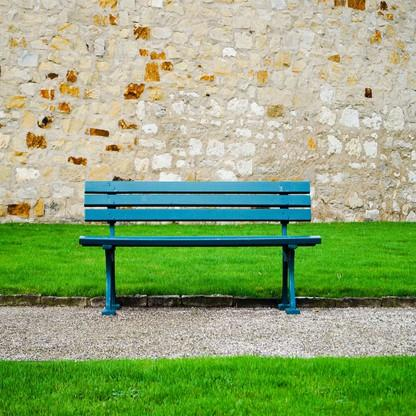obstacle: (78, 166, 325, 320)
